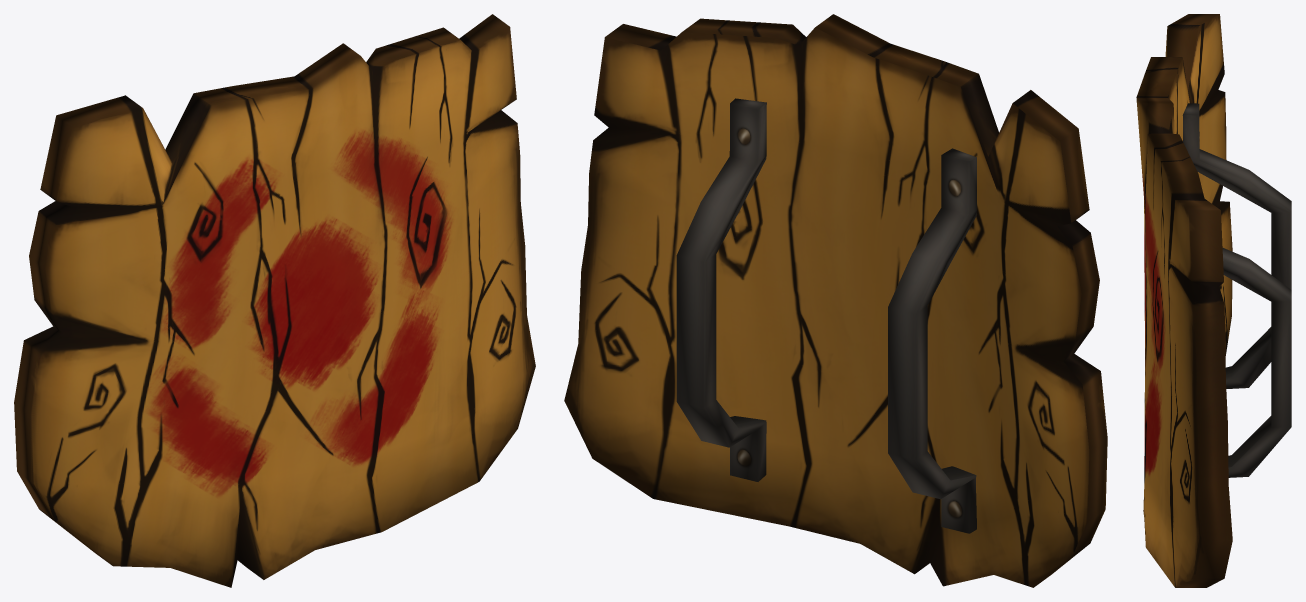
File: wooden_shield.glb
3 renders of one model, left to right at view 1: azimuth 30°, elevation 25°; view 2: azimuth 150°, elevation 25°; view 3: azimuth 270°, elevation 25°, orthographic. The views are drawn at different scales.
Parts seen in each view (by area): view 1: Object_2; view 2: Object_2; view 3: Object_2.
Boxes of the visible parts, x1,y1,x2,y2 form: Object_2: (14, 14, 535, 587); Object_2: (564, 14, 1107, 587); Object_2: (1136, 14, 1291, 587).
Size of the model in its own units: 54.86 by 52.35 by 16.29.
Materials: 1 (1 with a texture image).
